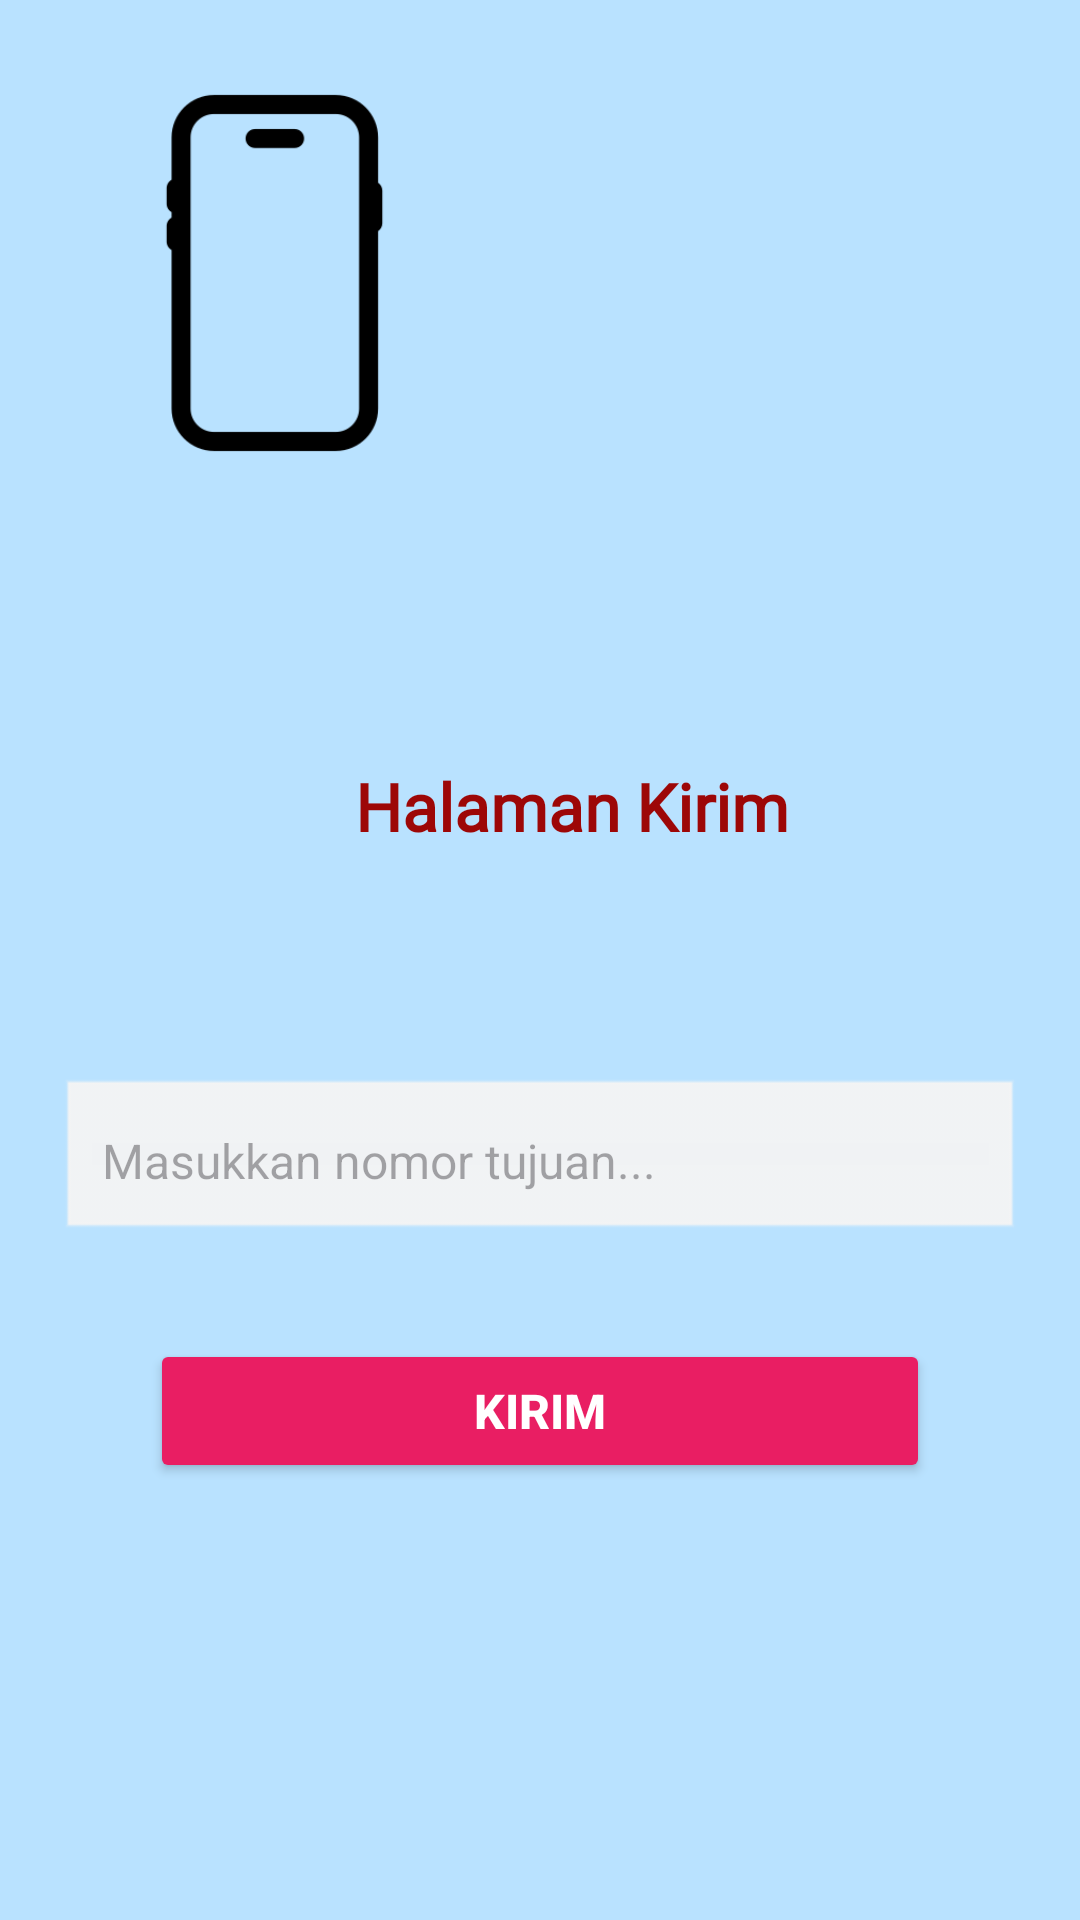

Locate icon controls on the screen. Image size 1080×1920, boxes as (x1, y1, x2, y2).
handphone: (166, 94, 383, 452)
